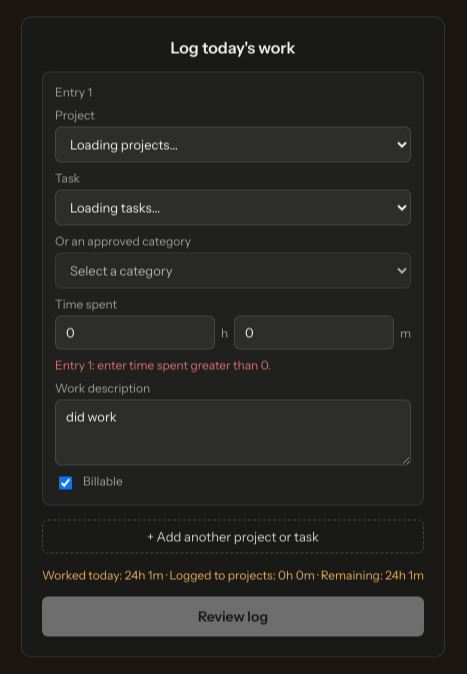
Test: TimeLogForm time spent (HH:MM) › combines 24h + 1m, shows the entry error, and clamps minutes above 59
The image size is (467, 674).
Replace the text in the number field named "Hours" with "24": (135, 332) [55,316,215,350]
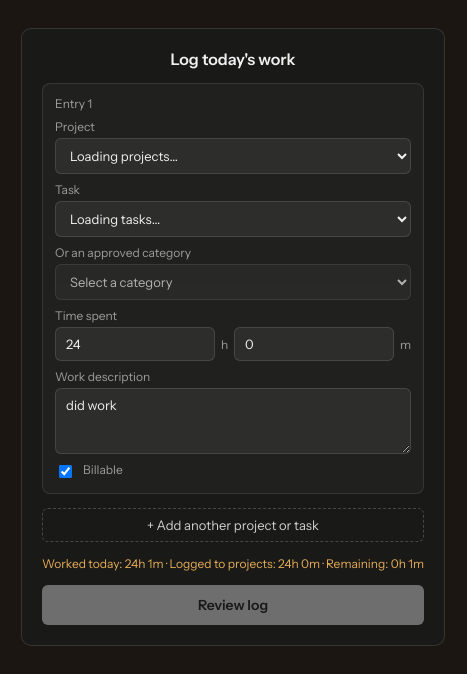
Replace the text in the number field named "Minutes" with "1": (314, 344) [234,327,394,361]
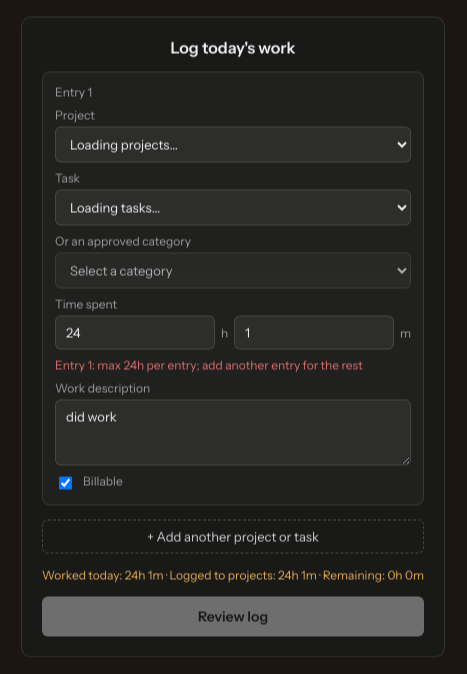
Expected: the button "Review log" is disabled, [42,596,424,636]
Result: the text "Entry 1: max 24h per entry; add another entry for the rest" is shown at [55,358,411,372]
Replace the text in the number field named "Minutes" with "75": (314, 332) [234,316,394,350]
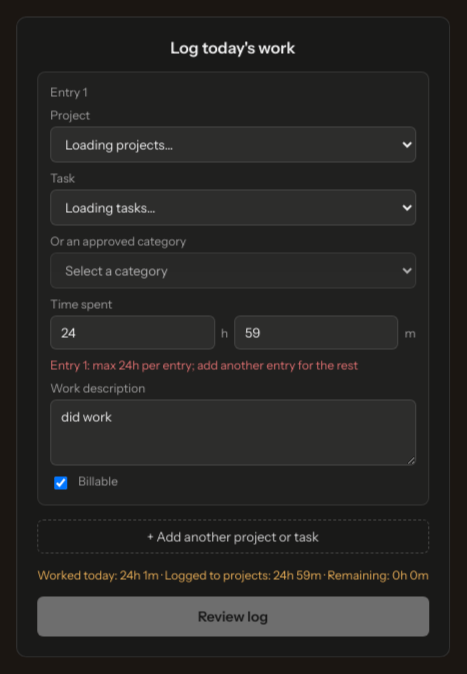
Result: the number field named "Minutes" holds "59" at [234,316,399,350]
